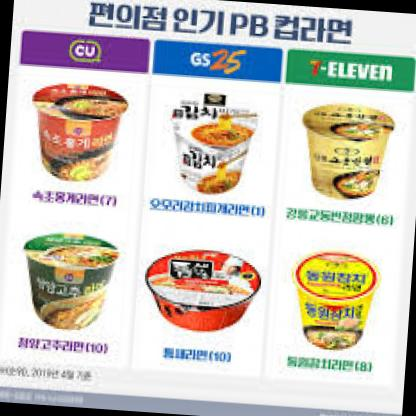Ramen: (26, 79, 129, 188), (138, 247, 270, 332), (20, 230, 125, 333), (162, 89, 260, 196), (291, 248, 380, 355), (298, 100, 390, 203)
